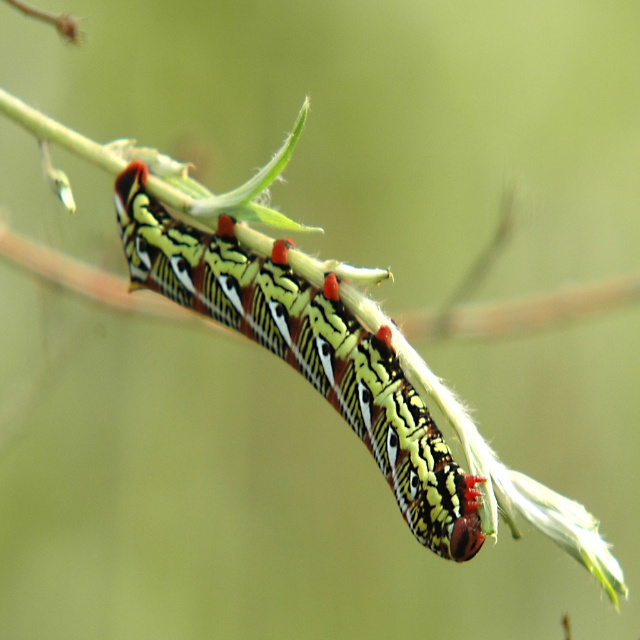Caterpillar: (112, 158, 484, 563)
